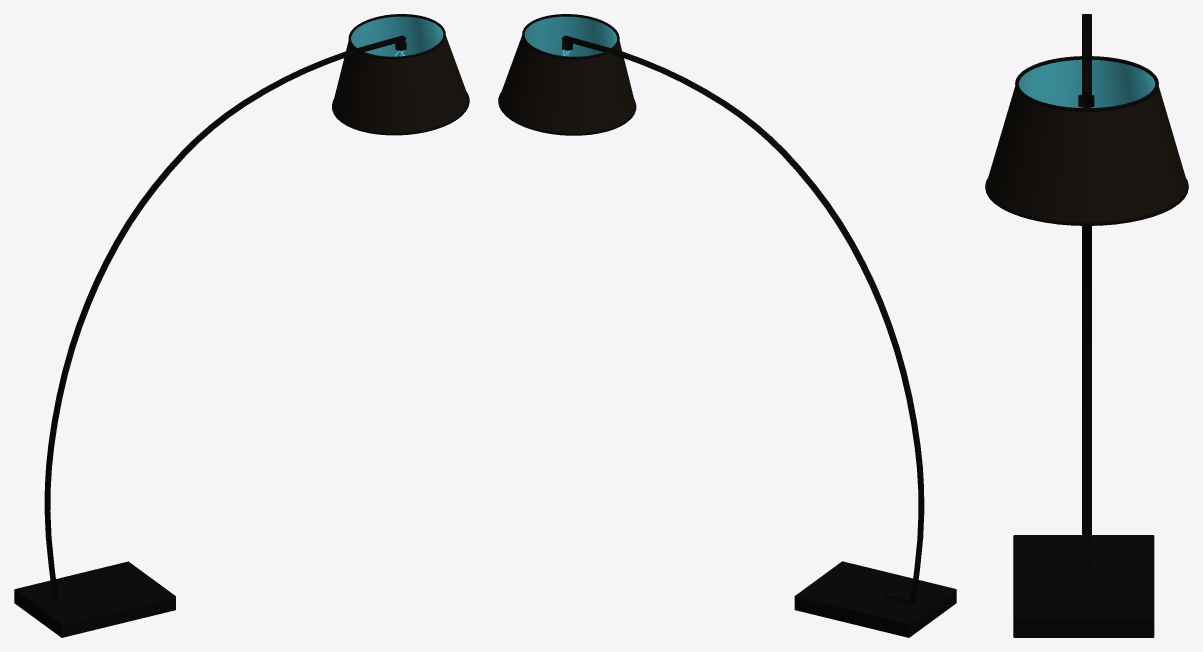
The model's file is SM_FloorLight_014.FBX.
3 views of the same model, side by side, from view 1: azimuth 30°, elevation 25°; view 2: azimuth 150°, elevation 25°; view 3: azimuth 270°, elevation 25° (orthographic). The views are drawn at different scales.
Visible parts, largest first — view 1: SM_FloorLight_014; view 2: SM_FloorLight_014; view 3: SM_FloorLight_014.
Boxes of the visible parts, x1,y1,x2,y2 form: SM_FloorLight_014: [14, 14, 469, 637]; SM_FloorLight_014: [498, 14, 956, 637]; SM_FloorLight_014: [985, 14, 1188, 637].
Bounding box in the file's own units: 151 × 42.74 × 170.
